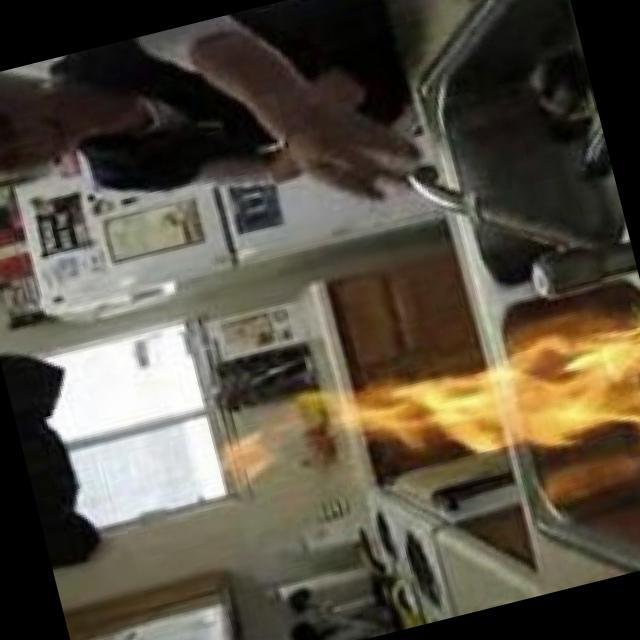Fire: (321, 309, 640, 509)
